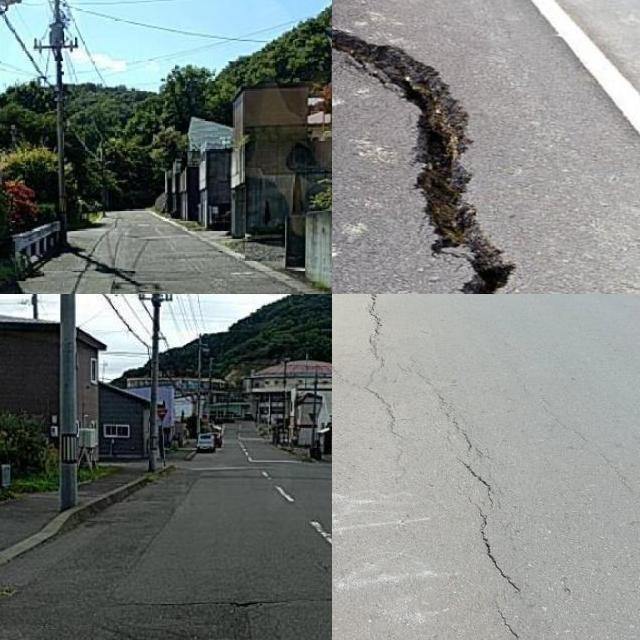Melintang: (116, 580, 332, 615)
Memanjang: (443, 394, 540, 640), (340, 294, 422, 465)
Pinggir: (332, 15, 534, 294)
